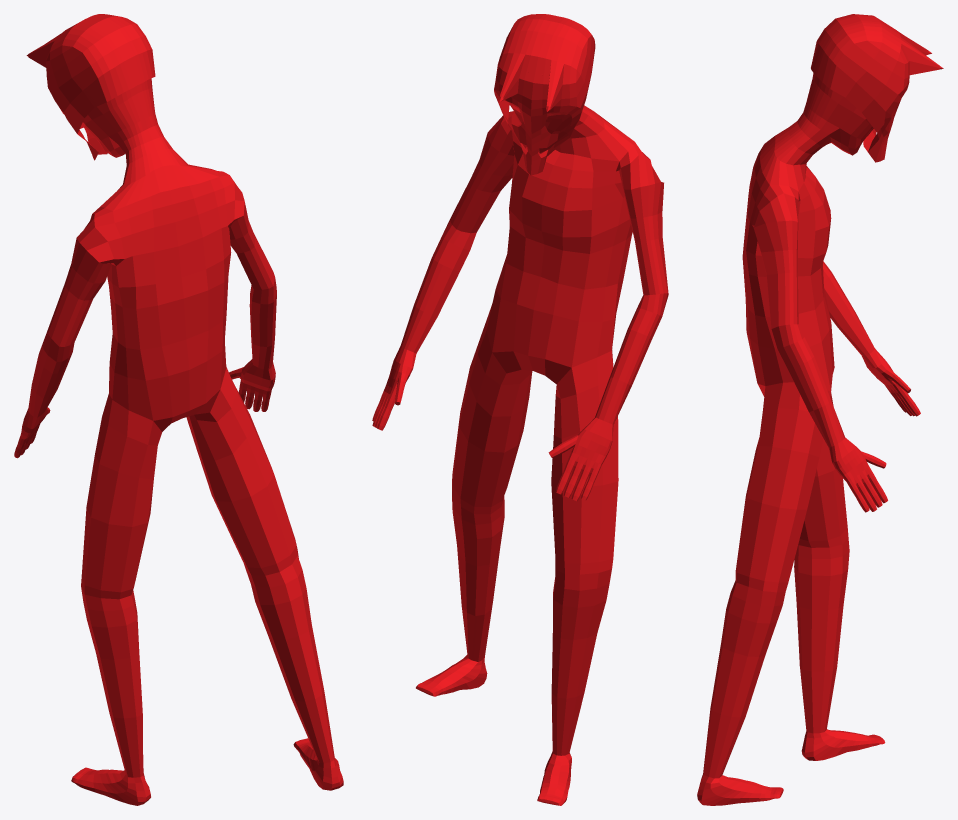
The model's file is reposoE_000228.obj.
The picture shows the model from 3 angles, left to right: view 1: azimuth 30°, elevation 25°; view 2: azimuth 150°, elevation 25°; view 3: azimuth 270°, elevation 25°; orthographic projection. The views are drawn at different scales.
Visible parts, largest first — view 1: Plane.002_Plane.001; view 2: Plane.002_Plane.001; view 3: Plane.002_Plane.001.
Part boxes in pixels (left/top/right/bottom): Plane.002_Plane.001: left=14, top=14, right=343, bottom=805; Plane.002_Plane.001: left=372, top=14, right=668, bottom=805; Plane.002_Plane.001: left=697, top=14, right=943, bottom=805.
Bounding box in the file's own units: 2.48 × 7.06 × 2.15.
